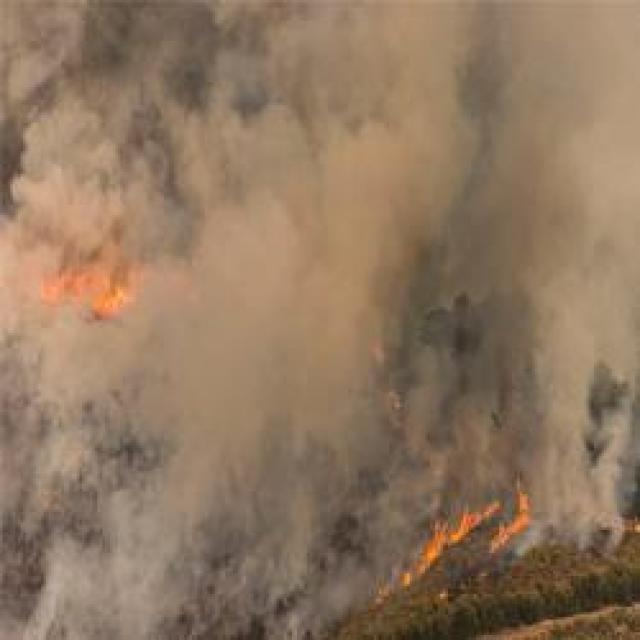smoke: (208, 119, 440, 260), (210, 4, 357, 161), (28, 110, 169, 244), (550, 130, 640, 333), (380, 343, 500, 494), (103, 440, 233, 570), (36, 326, 152, 462), (38, 531, 170, 640), (2, 1, 112, 116), (1, 220, 60, 388), (541, 445, 618, 514), (314, 574, 368, 613)
